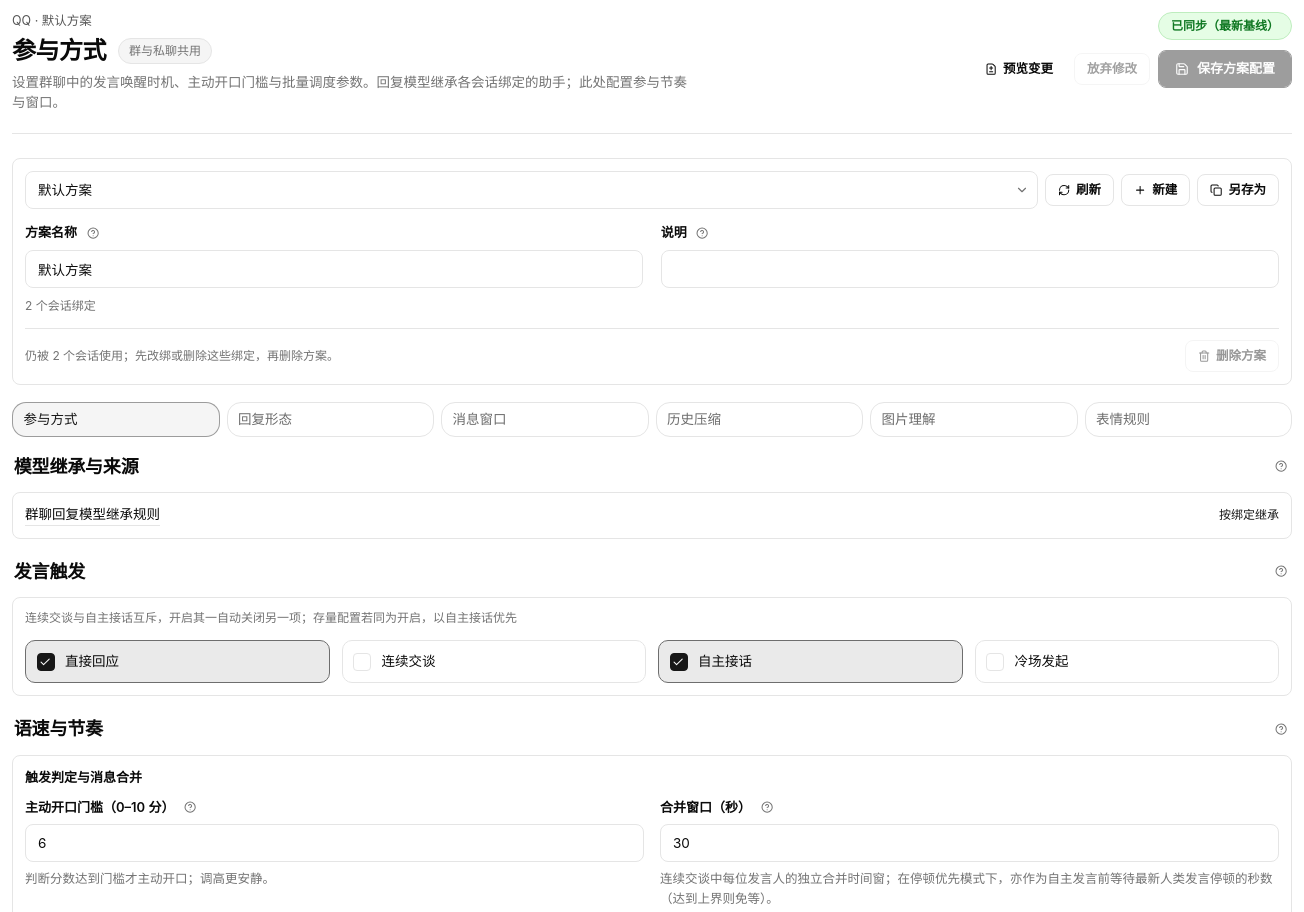
Shared scheme studio › keeps invalid numeric input visible and blocks saving instead of clamping it
Replace the text in the number field labelled "合并窗口（秒）" with "900" at (970, 843), box left=660, top=824, right=1279, bottom=862
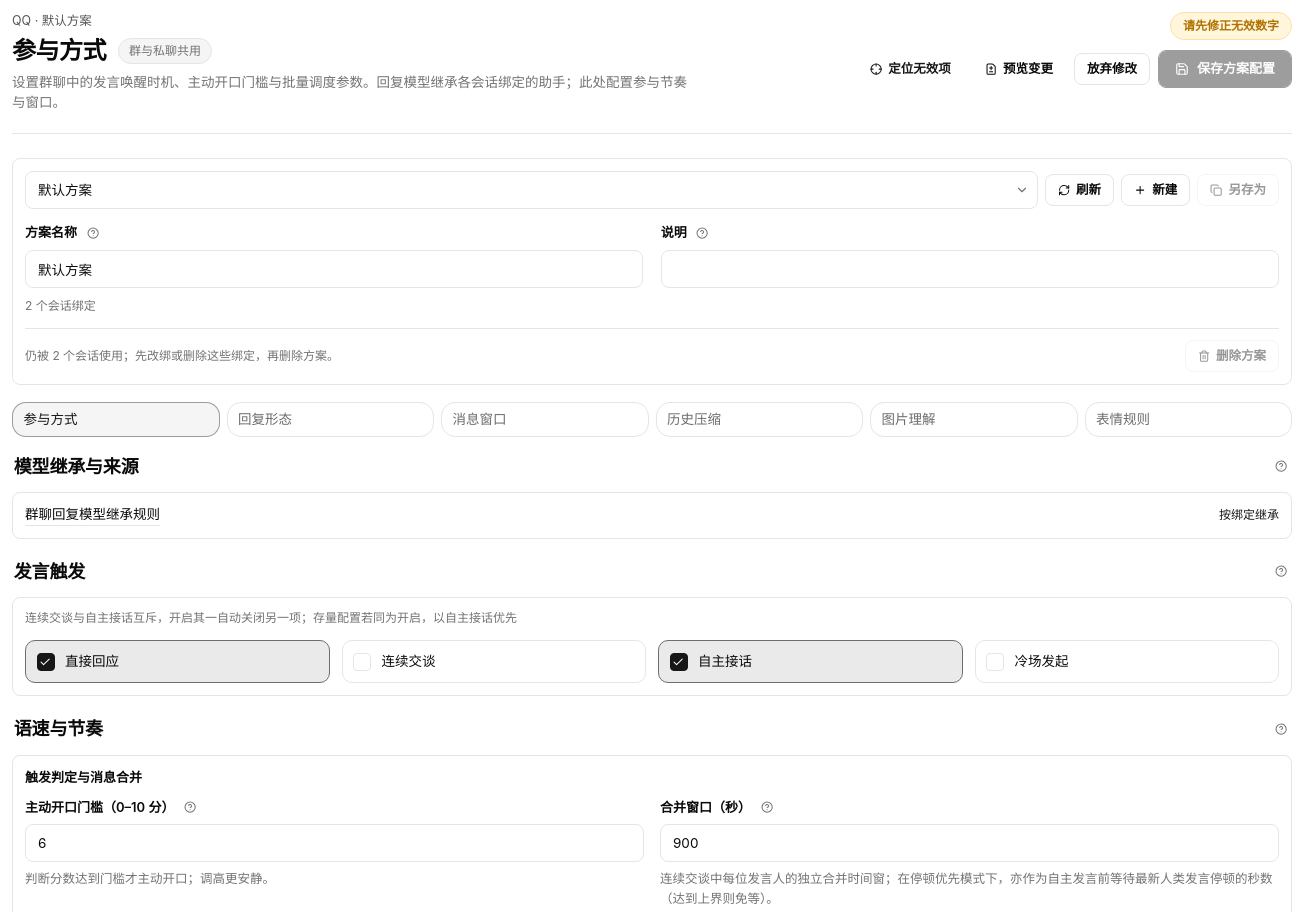
Leave the number field labelled "合并窗口（秒）", box left=660, top=824, right=1279, bottom=862
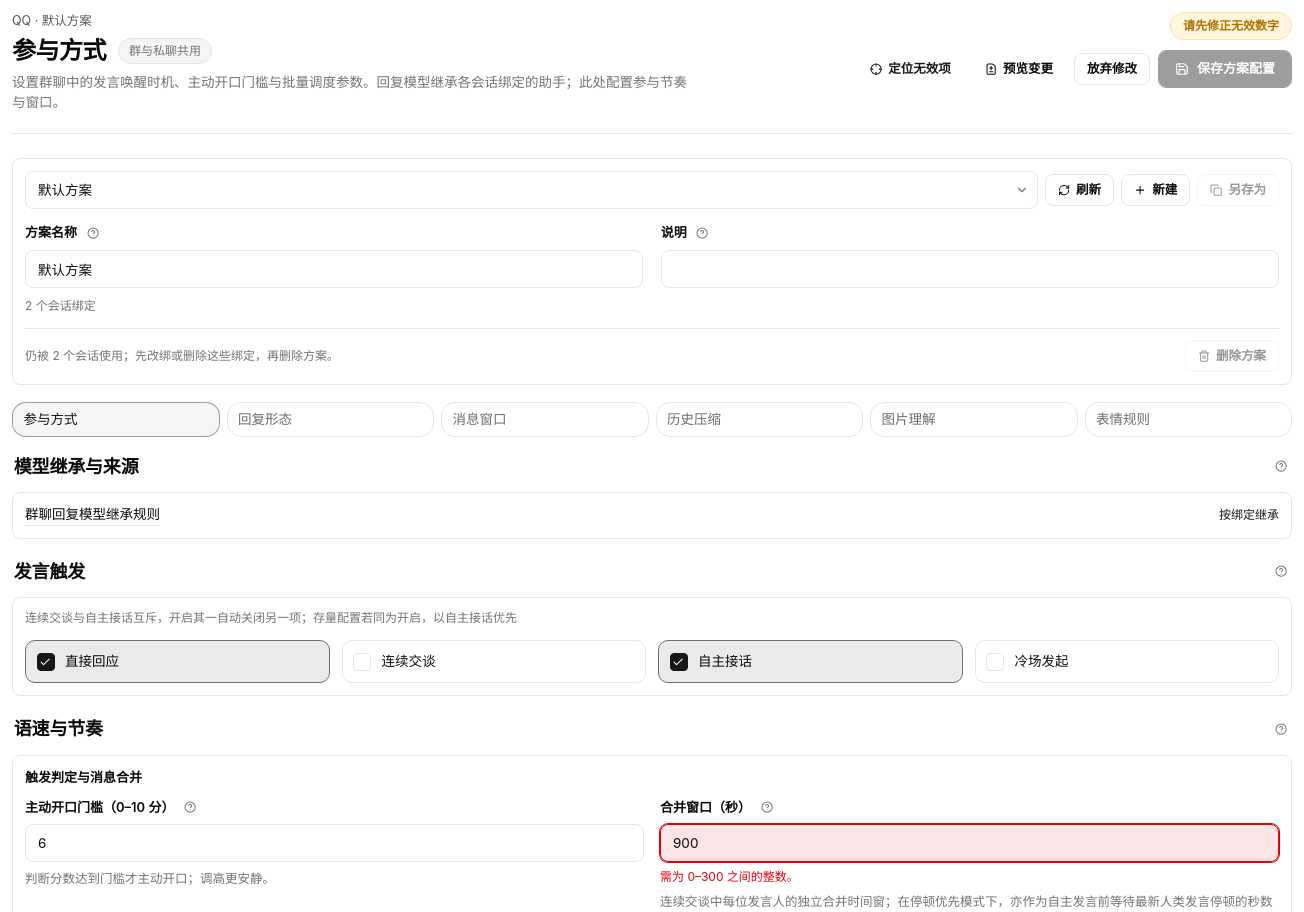
Expected: the button "保存方案配置" is disabled, left=1158, top=50, right=1292, bottom=88
Expected: the message "需为 0–300 之间的整数。" is shown, left=660, top=869, right=799, bottom=884
